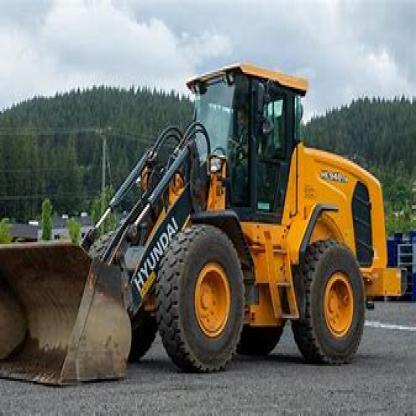bull_dozer/loader/grader: (14, 32, 408, 414)
